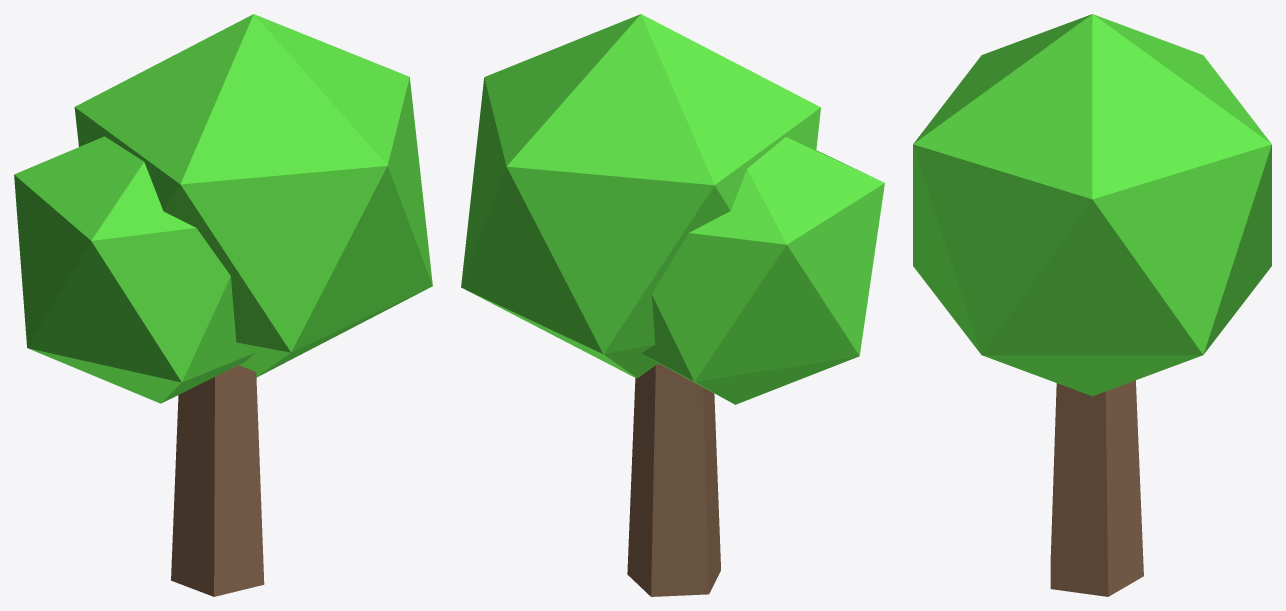
File: Tree_3.fbx
The picture shows the model from 3 angles, left to right: view 1: azimuth 30°, elevation 25°; view 2: azimuth 150°, elevation 25°; view 3: azimuth 270°, elevation 25°; orthographic projection. The views are drawn at different scales.
Parts seen in each view (by area): view 1: Tree_LOD0; view 2: Tree_LOD0; view 3: Tree_LOD0.
Part boxes in pixels (x1=…): Tree_LOD0: x1=14, y1=14, x2=432, y2=596; Tree_LOD0: x1=461, y1=14, x2=884, y2=596; Tree_LOD0: x1=913, y1=14, x2=1271, y2=596.
Size of what is drawn, in the model's own units: 398 by 557 by 313.
